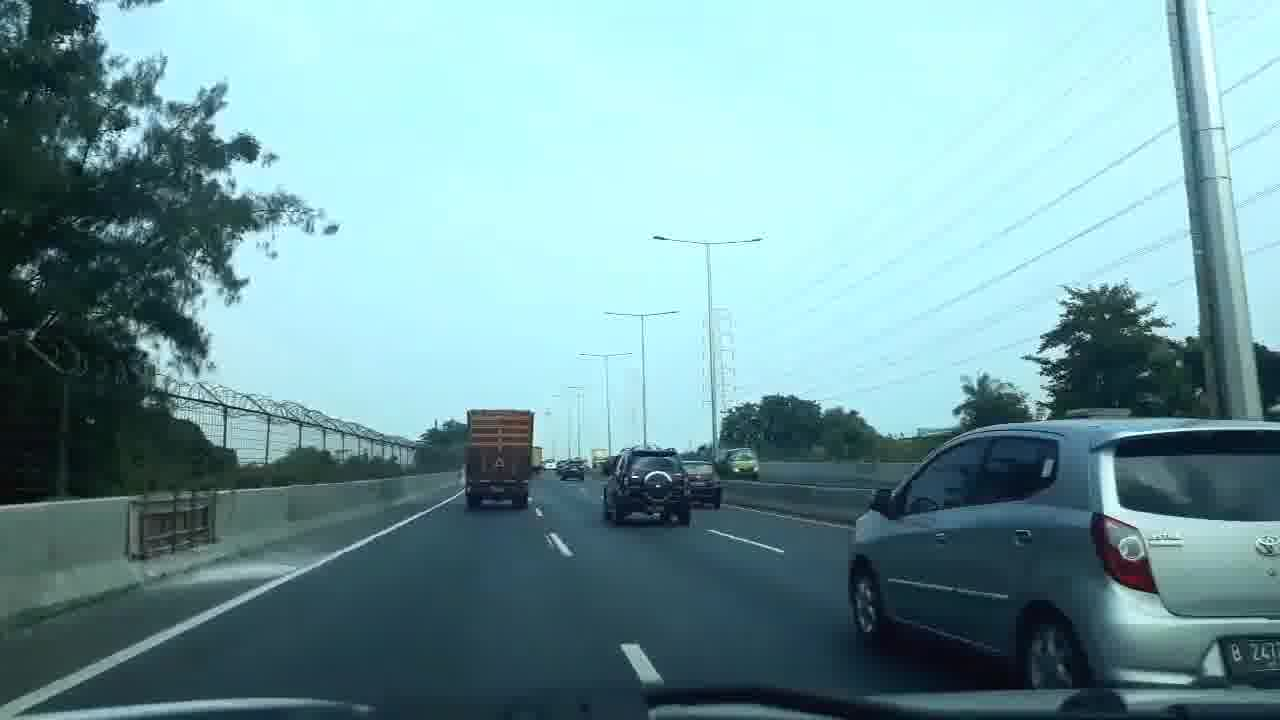plate_positive: (646, 505, 665, 512), (490, 487, 505, 494)
